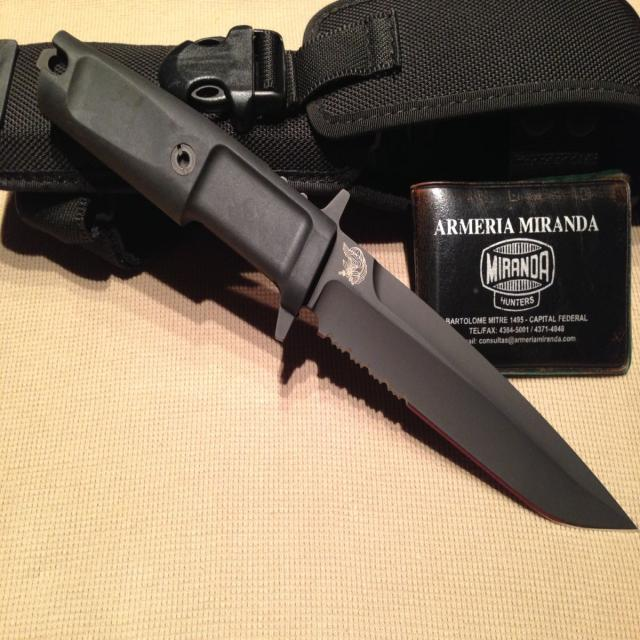knife: (33, 29, 640, 535)
